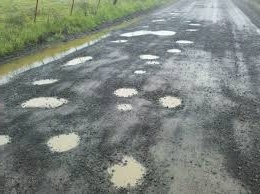pothole: (104, 152, 156, 192), (8, 45, 54, 72), (48, 129, 83, 153), (50, 37, 104, 52), (24, 95, 64, 110), (120, 28, 177, 36), (157, 95, 185, 111), (108, 85, 140, 96), (63, 52, 95, 63), (31, 76, 58, 86), (0, 129, 14, 144), (142, 58, 166, 65), (139, 52, 160, 59), (108, 37, 127, 44), (116, 101, 131, 109), (174, 38, 196, 43), (166, 47, 181, 54), (185, 26, 200, 31), (188, 20, 202, 25), (150, 16, 164, 21), (135, 68, 147, 73)
